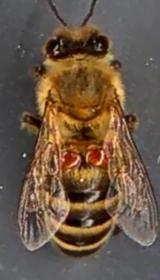varroa_mite: (54, 142, 82, 172), (84, 143, 109, 172)
